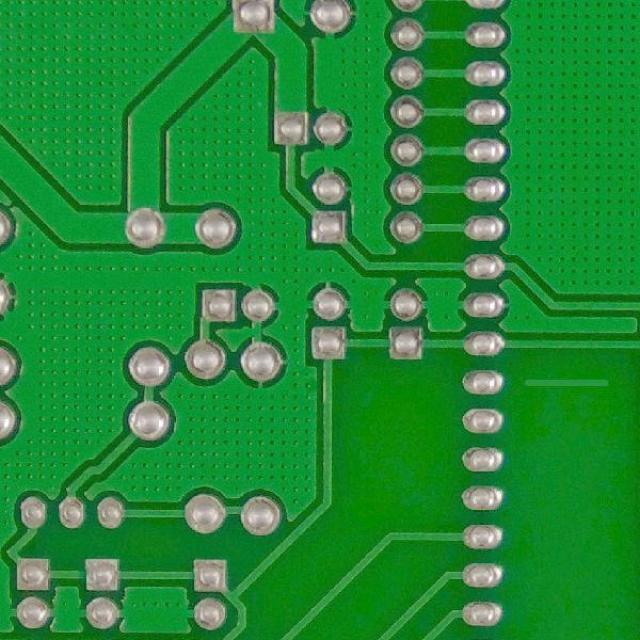Spurious_Cooper: (517, 370, 618, 394)
